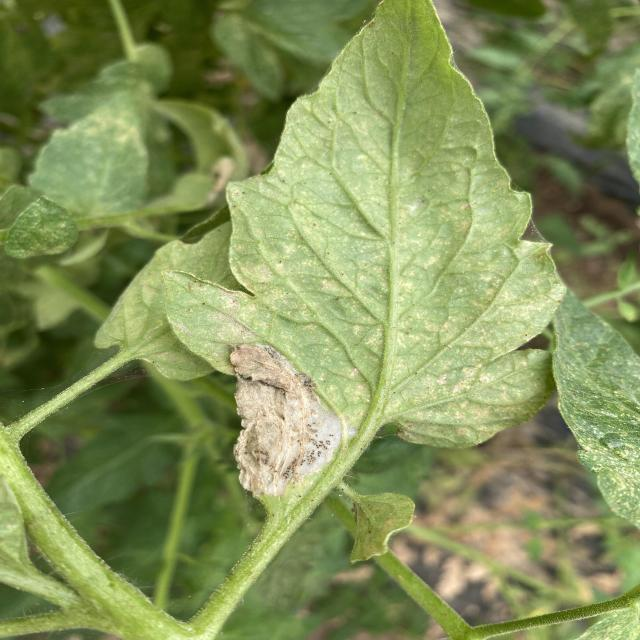Tuta absoluta: (230, 341, 344, 498)
